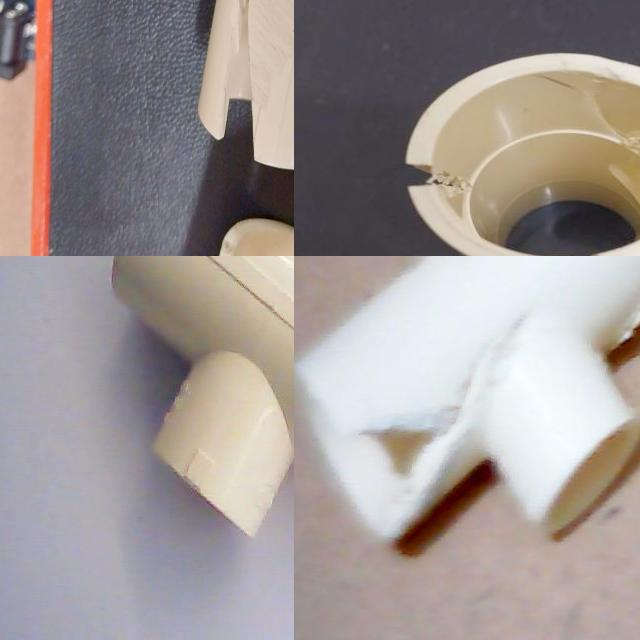Defective: (338, 358, 492, 554), (373, 140, 478, 237), (608, 256, 640, 354), (0, 0, 115, 10)
T Joint: (294, 256, 640, 546), (110, 256, 294, 540), (0, 0, 294, 111)
